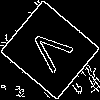V: (25, 25, 82, 81)
